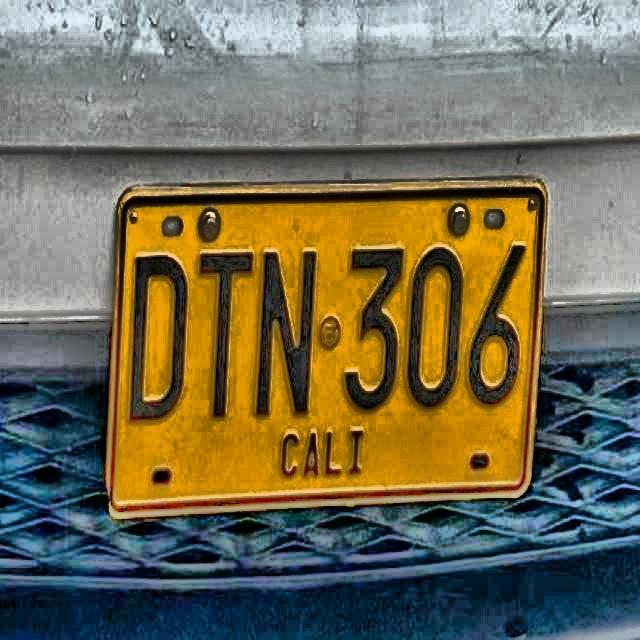plate: (112, 185, 544, 510)
